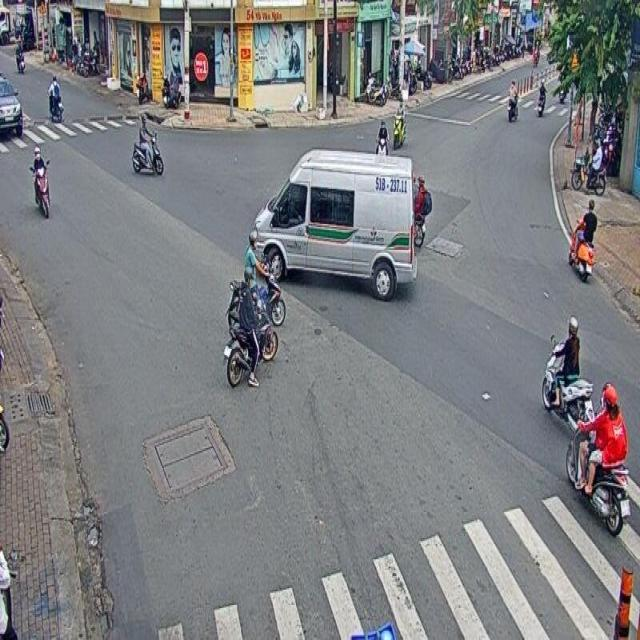motorcycle: (566, 384, 630, 538), (224, 267, 278, 387), (540, 316, 594, 420), (243, 230, 286, 326), (568, 198, 598, 282), (131, 114, 164, 177), (30, 146, 50, 216)
truck: (254, 145, 414, 297)
